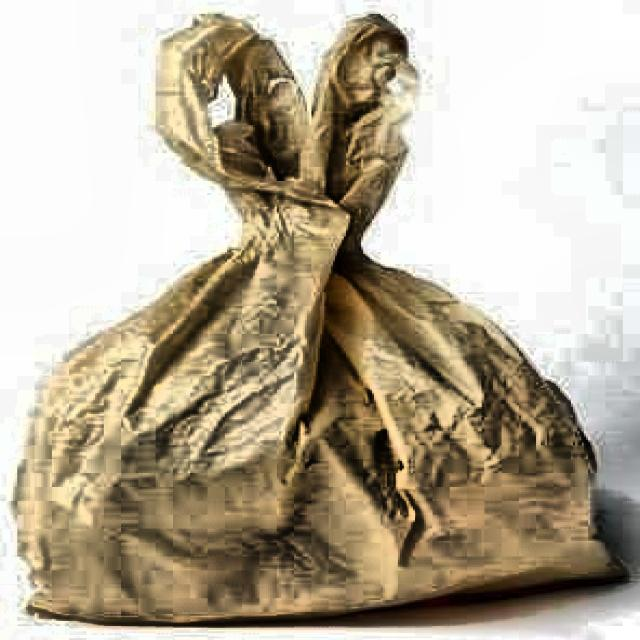Plastic: (22, 0, 640, 631)
